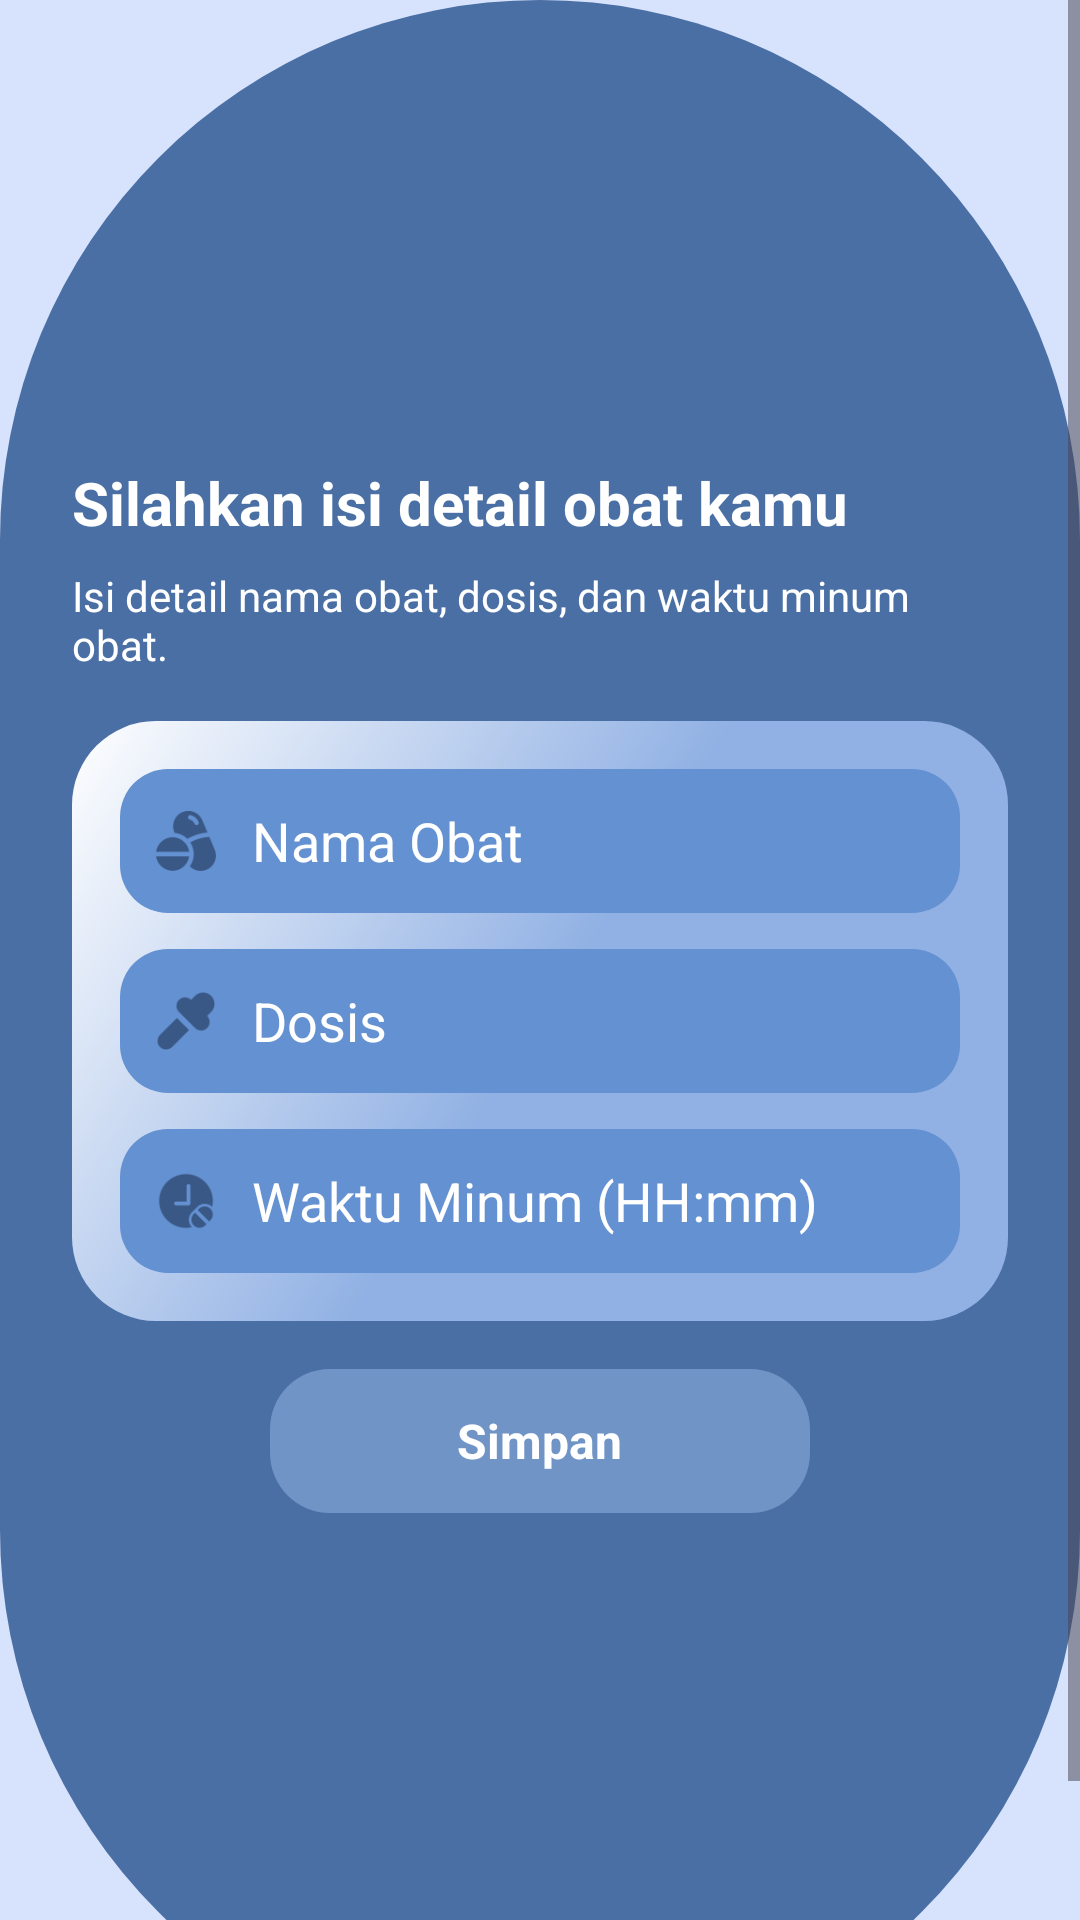

Named icons in this screenshot (1080px x 1920px) and their bounding boxes, [x1, y1, x2, y2]:
dropper: [157, 992, 215, 1050]
drugs: [156, 811, 216, 871]
